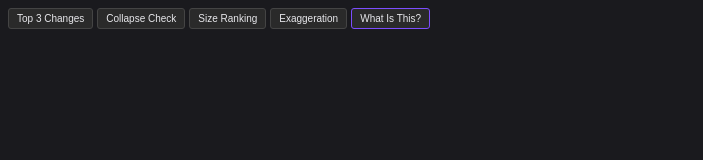
Test: VectorCopilotPanel › clicking Top 3 Changes shows analysis results
What coordinates should you click on to do the following:
click the button "Top 3 Changes"
I would click on:
 (51, 18)
Its box is [8,8,93,29].
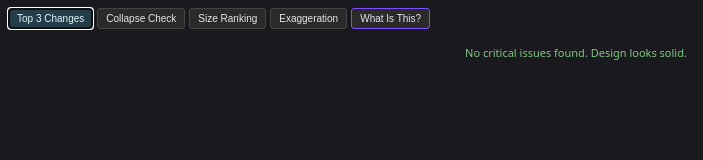
Check: the text "No critical issues found. Design looks solid." is shown, box [465,45,687,60]
